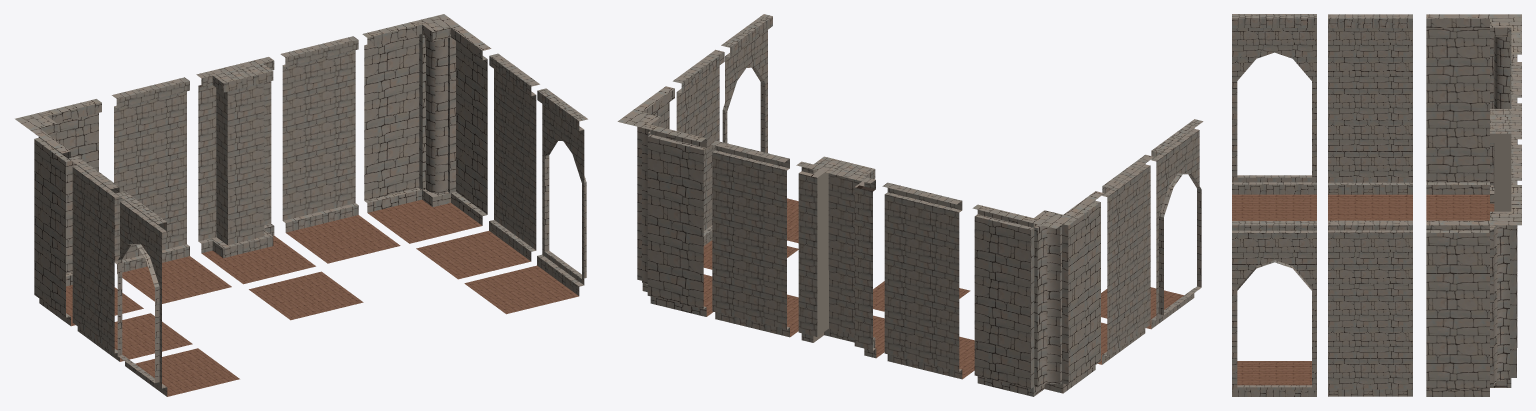
Rendered from Tileset 1.fbx.
3 views of the same model, side by side, from view 1: azimuth 30°, elevation 25°; view 2: azimuth 150°, elevation 25°; view 3: azimuth 270°, elevation 25° (orthographic). The views are drawn at different scales.
Visible parts, largest first — view 1: tile 026, tile 019, tile 021, tile 041, tile 027, tile 042, tile 043, tile 040, tile 044, tile 030; view 2: tile 042, tile 041, tile 019, tile 021, tile 026, tile 043, tile 044, tile 027, tile 040; view 3: tile 043, tile 026, tile 042, tile 027, tile 044, tile 040, tile 019, tile 041, tile 021.
Boxes of the visible parts, x1,y1,x2,y2 form: tile 026: [362, 14, 491, 243]; tile 019: [196, 57, 315, 284]; tile 021: [280, 36, 400, 263]; tile 041: [112, 77, 231, 303]; tile 027: [416, 53, 539, 279]; tile 042: [15, 99, 143, 326]; tile 043: [69, 156, 192, 361]; tile 040: [464, 88, 587, 314]; tile 044: [116, 191, 239, 396]; tile 030: [249, 271, 363, 320]; tile 042: [972, 191, 1104, 396]; tile 041: [882, 182, 974, 379]; tile 019: [796, 156, 884, 358]; tile 021: [710, 140, 798, 337]; tile 026: [617, 86, 713, 316]; tile 043: [1097, 154, 1153, 364]; tile 044: [1101, 119, 1203, 329]; tile 027: [673, 49, 798, 269]; tile 040: [721, 14, 798, 243]; tile 043: [1328, 14, 1412, 220]; tile 026: [1426, 185, 1521, 396]; tile 042: [1426, 14, 1521, 220]; tile 027: [1328, 220, 1412, 396]; tile 044: [1232, 14, 1316, 220]; tile 040: [1232, 221, 1316, 396]; tile 019: [1490, 103, 1521, 211]; tile 041: [1511, 62, 1521, 103]; tile 021: [1511, 144, 1521, 184].
Size of the model in its own units: 465 by 180 by 268.
